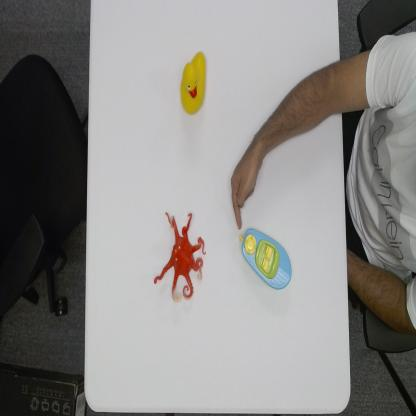Arm: (268, 46, 365, 166)
Boat: (238, 226, 294, 292)
Duck: (179, 50, 209, 115)
Hand: (228, 143, 267, 229)
Octopus: (152, 209, 209, 306)
